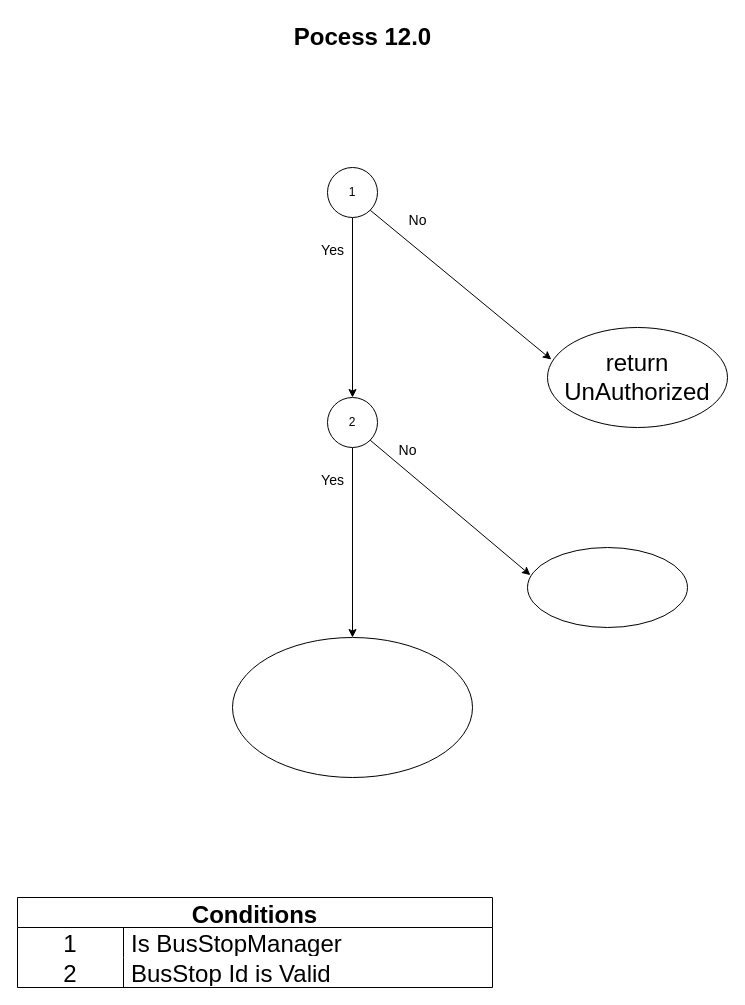
Image size: 745x1005. Some labels were removed from this diagram. Each missing label, with the centre of its shape:
"return BadRequest" belongs at [607,587].
"Return Journies Withen the BusStop" belongs at [352,707].
